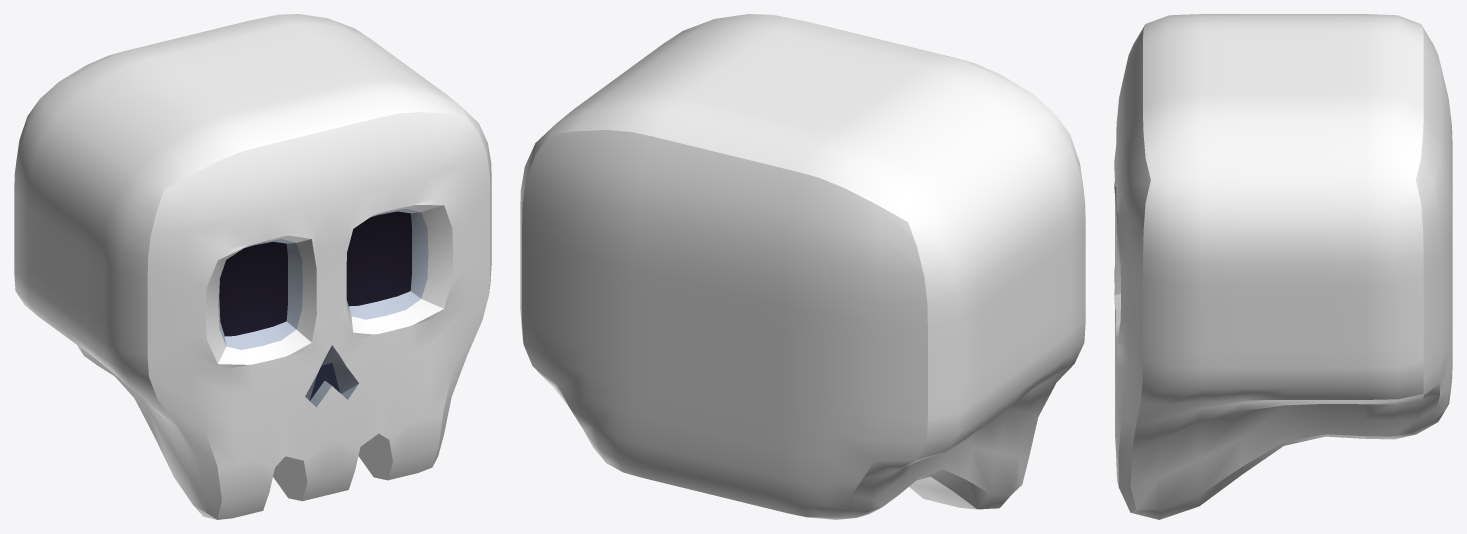
The model's file is Skull overlord.fbx.
3 views of the same model, side by side, from view 1: azimuth 30°, elevation 25°; view 2: azimuth 150°, elevation 25°; view 3: azimuth 270°, elevation 25° (orthographic). The views are drawn at different scales.
Visible parts, largest first — view 1: Cube; view 2: Cube; view 3: Cube.
Part boxes in pixels (left/top/right/bottom): Cube: left=14, top=14, right=491, bottom=519; Cube: left=520, top=14, right=1085, bottom=519; Cube: left=1114, top=14, right=1452, bottom=519.
Size of the model in its own units: 200 by 194 by 147.
1 material, 1 textured.
